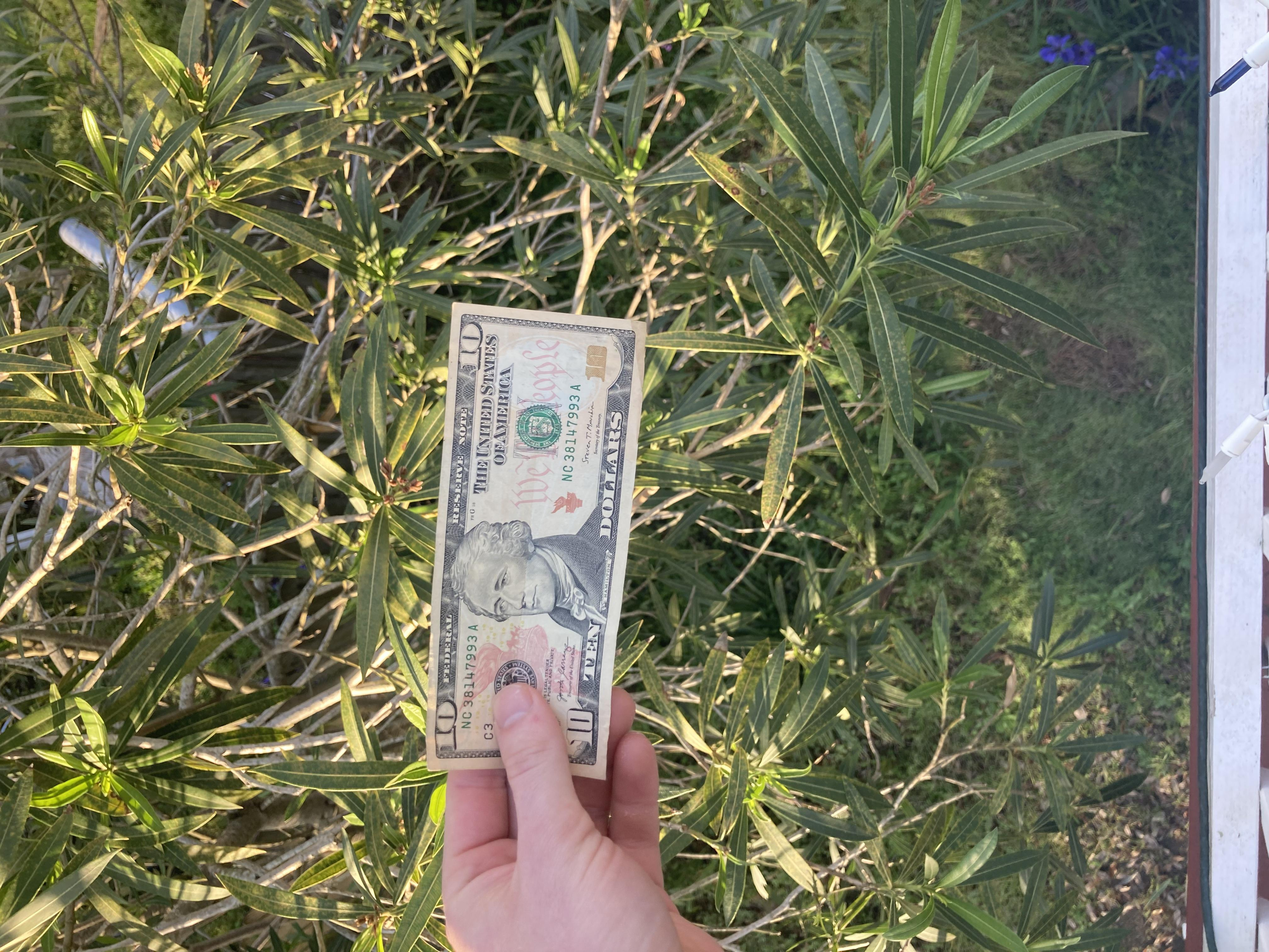ten-front: (228, 319, 868, 486)
